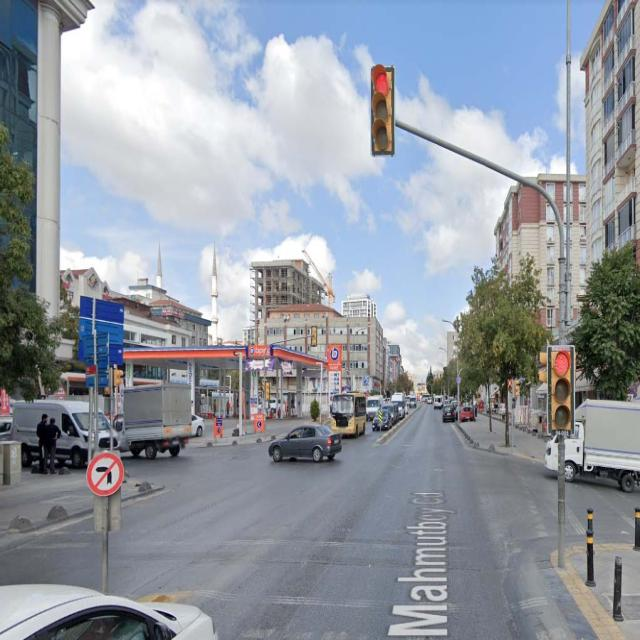kirmizi: (549, 344, 574, 438), (370, 64, 395, 155)
soladonulmez: (85, 452, 124, 496)
